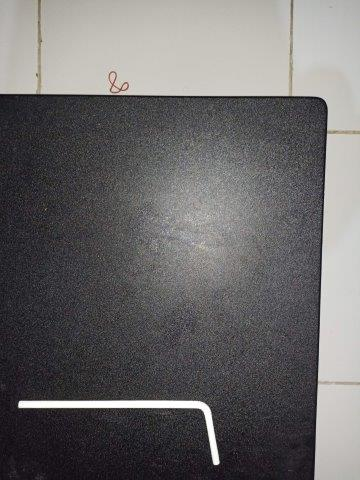karet: (109, 70, 130, 94)
sedotan: (18, 400, 219, 465)
